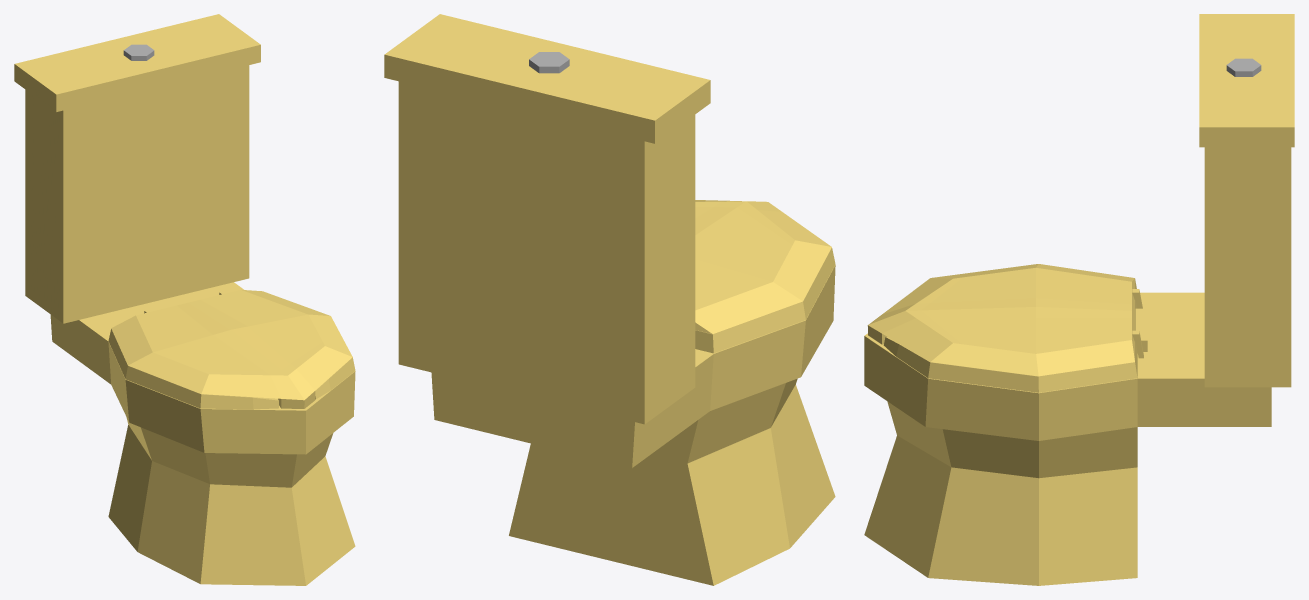
The model's file is Toilet8.fbx.
The picture shows the model from 3 angles, left to right: view 1: azimuth 30°, elevation 25°; view 2: azimuth 150°, elevation 25°; view 3: azimuth 270°, elevation 25°; orthographic projection. The views are drawn at different scales.
Parts seen in each view (by area): view 1: Cube.002, Cube.000, Cube.001; view 2: Cube.002, Cube.000, Cube.001, Cube.003; view 3: Cube.002, Cube.000, Cube.001, Cube.003.
Part boxes in pixels (x1,y1,x2,y2): Cube.002: (14, 14, 355, 585); Cube.000: (111, 289, 352, 408); Cube.001: (108, 328, 355, 409); Cube.002: (384, 14, 835, 585); Cube.000: (695, 200, 831, 333); Cube.001: (695, 248, 835, 353); Cube.003: (529, 52, 569, 73); Cube.002: (864, 14, 1294, 585); Cube.000: (867, 264, 1143, 376); Cube.001: (883, 279, 1147, 392); Cube.003: (1226, 58, 1261, 76).
Bounding box in the file's own units: 0.9665 × 1.84 × 1.53.
